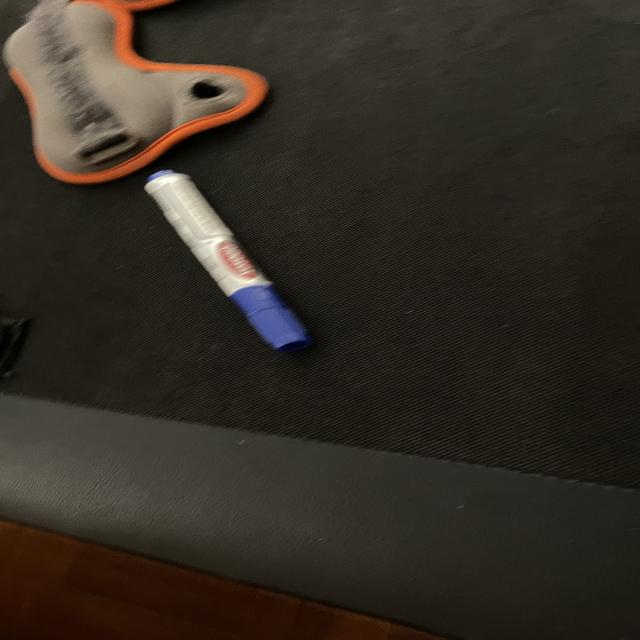marker: (145, 170, 311, 352)
